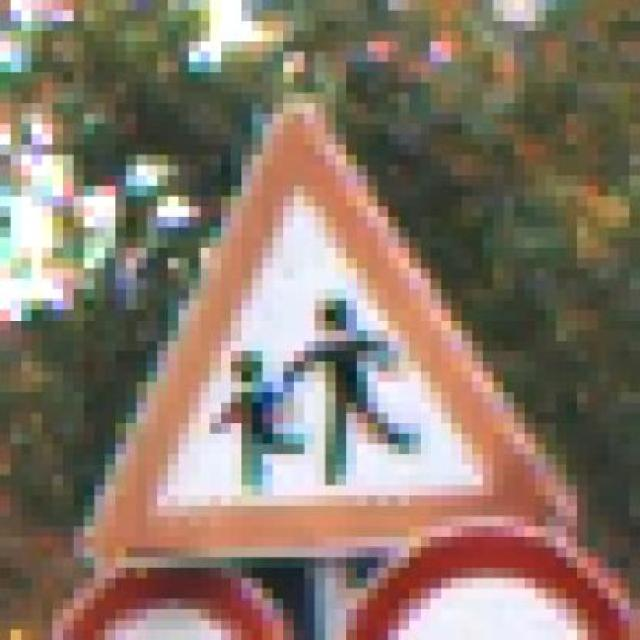Beware of children: (63, 82, 577, 558)
